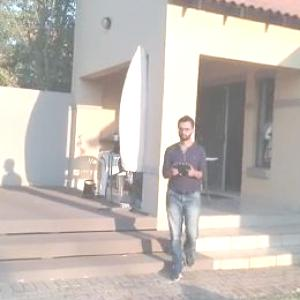follow: (158, 112, 208, 285)
